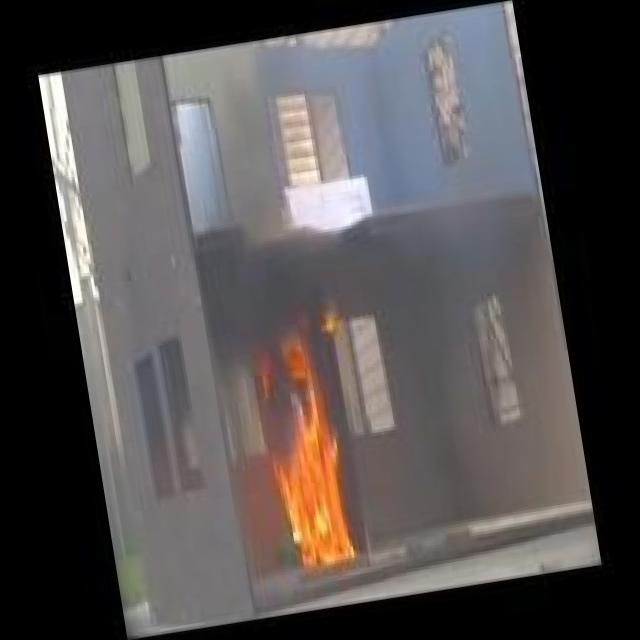fire: (228, 331, 384, 584)
